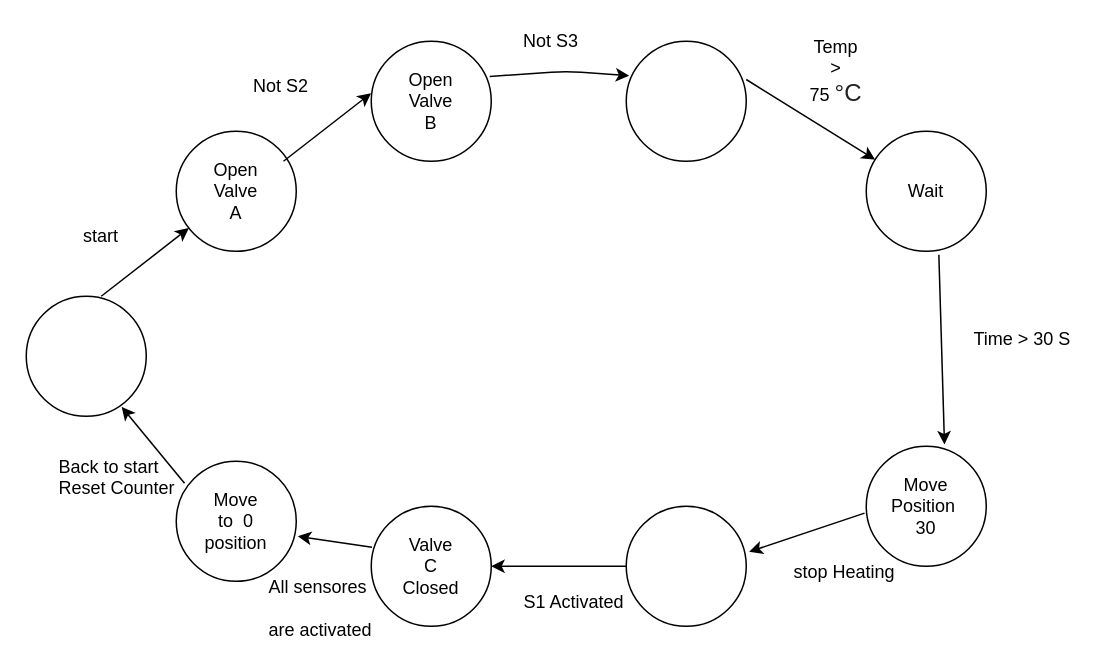
The diagram is 1098 pixels wide and 666 high, and some of its shapes have lost their labels. Here are the shapes that lost their labels. From the top down, the centre of each, then its label:
At [685,100]: "Heating".
At [85,355]: "Ready".
At [685,565]: "Open Valve C".
